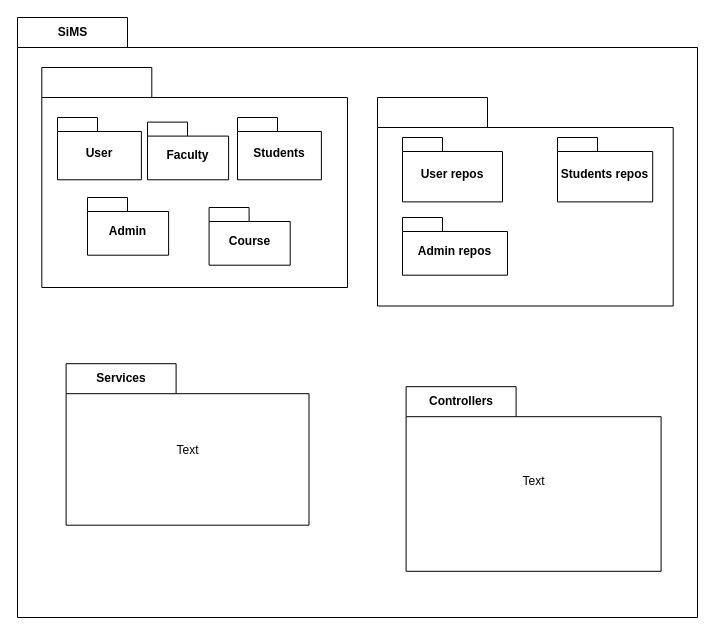
Some shapes in this 715 by 635 pixel diagram are drawn without their labels. The box of each missing label's shape, as (x1, y1, x2, y2) in pixels:
Models: (41, 66, 348, 288)
Repositories: (376, 96, 673, 306)
